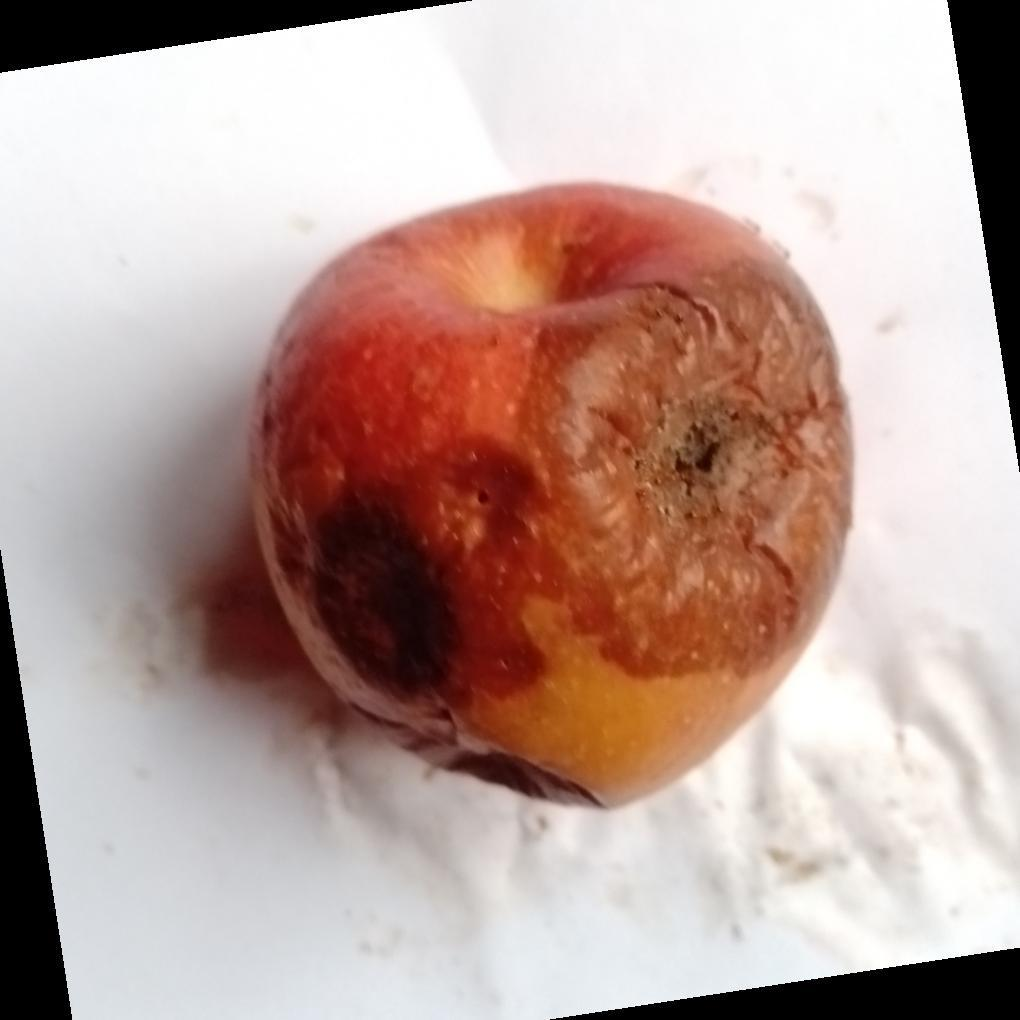FreshOrange: (246, 183, 857, 813)
